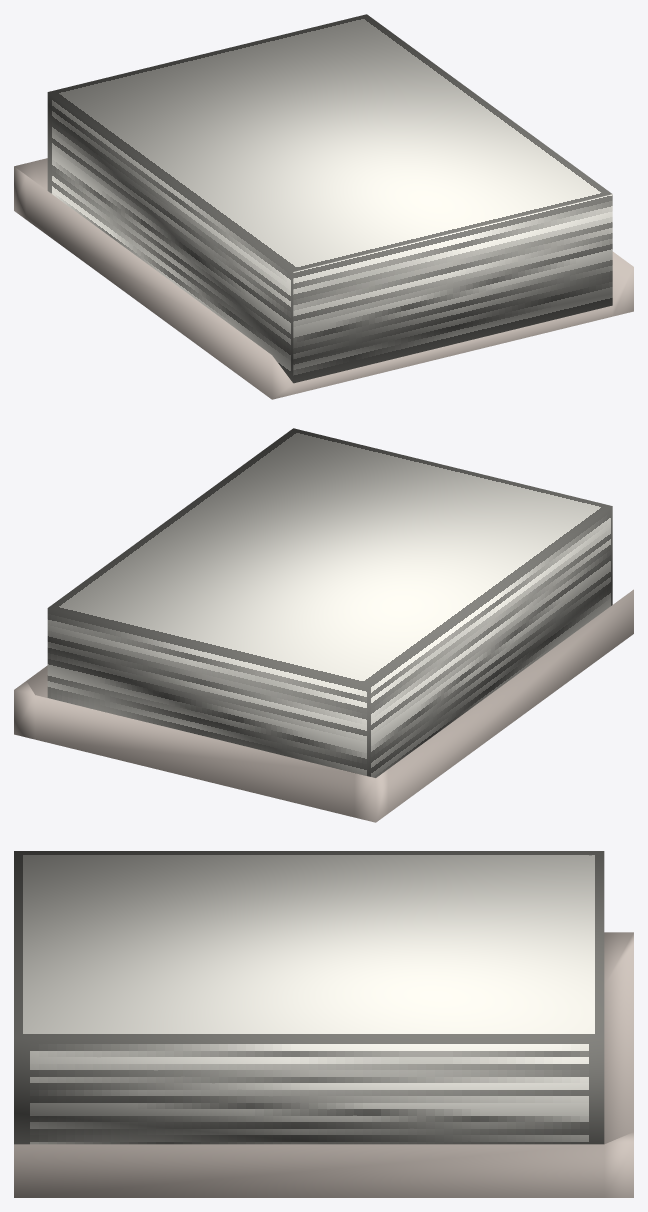
Rendered from Paper.fbx.
The picture shows the model from 3 angles, top to bottom: view 1: azimuth 30°, elevation 25°; view 2: azimuth 150°, elevation 25°; view 3: azimuth 270°, elevation 25°; orthographic projection. The views are drawn at different scales.
Visible parts, largest first — view 1: PaperStack, Tray.002; view 2: PaperStack, Tray.002; view 3: PaperStack, Tray.002.
Boxes of the visible parts, x1,y1,x2,y2 form: PaperStack: (47, 14, 612, 383); Tray.002: (14, 158, 633, 399); PaperStack: (47, 428, 612, 777); Tray.002: (14, 589, 633, 822); PaperStack: (14, 851, 604, 1144); Tray.002: (14, 932, 633, 1197).
Bounding box in the file's own units: 34 × 11 × 42.
Materials: 2 (2 with a texture image).
